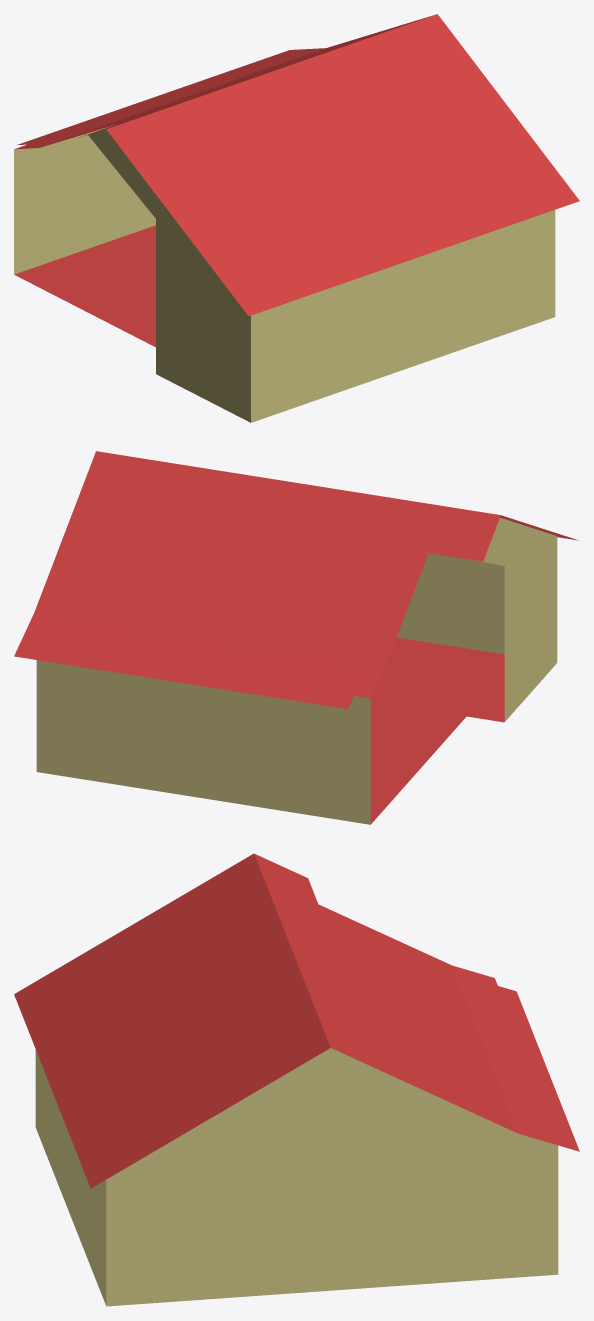
3 views of the same model, one above another, from view 1: azimuth 30°, elevation 25°; view 2: azimuth 150°, elevation 25°; view 3: azimuth 270°, elevation 25° (orthographic). The views are drawn at different scales.
Size of the model in its own units: 26.85 by 29.85 by 14.6.
